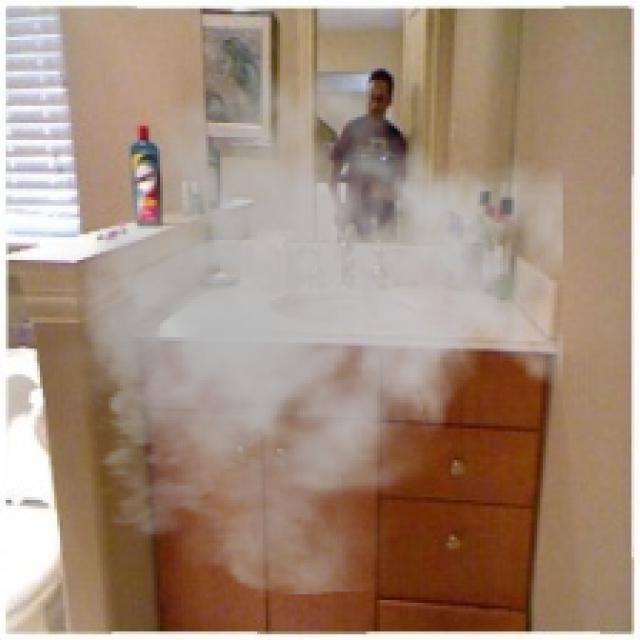Smoke: (31, 54, 563, 597)
